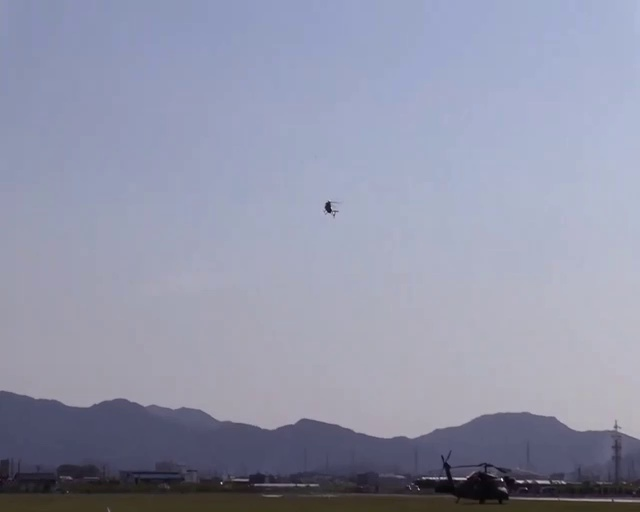HELICOPTER: (324, 199, 343, 218)
